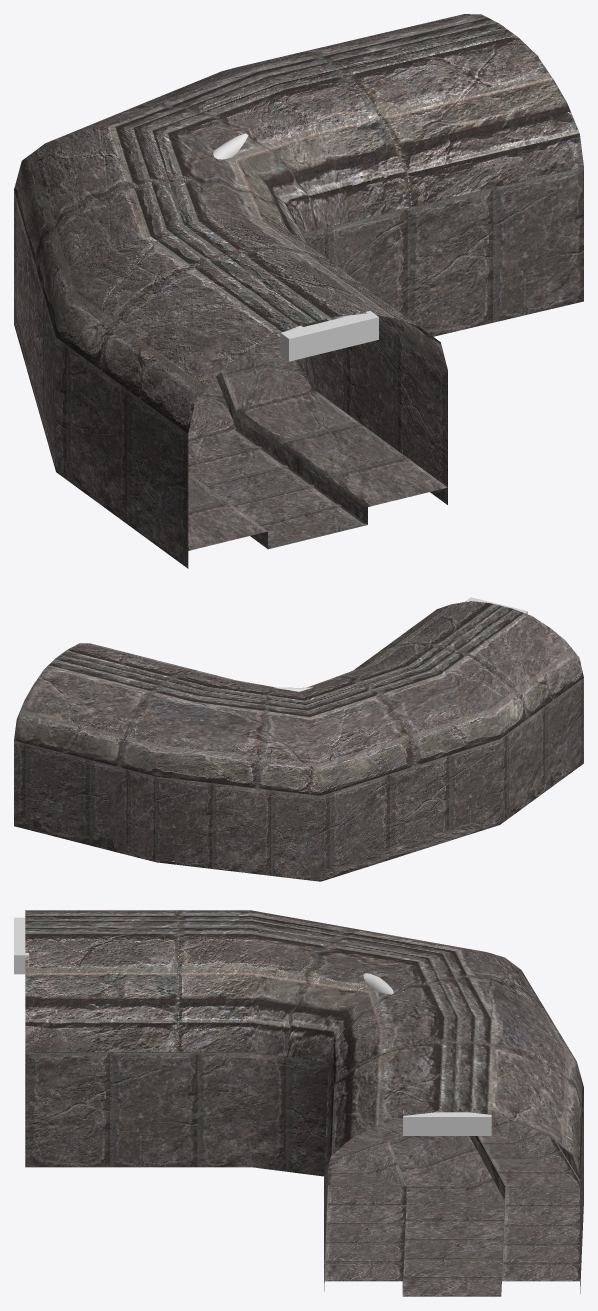
The model's file is 오른쪽 길.fbx.
3 renders of one model, top to bottom at view 1: azimuth 30°, elevation 25°; view 2: azimuth 150°, elevation 25°; view 3: azimuth 270°, elevation 25°, orthographic. The views are drawn at different scales.
Visible parts, largest first — view 1: 하수구 오른쪽길, 하수도 오른쪽 바닥, Box003; view 2: 하수구 오른쪽길, 하수도 오른쪽 바닥; view 3: 하수구 오른쪽길, 하수도 오른쪽 바닥, Box004, Box003.
Part boxes in pixels (x1=…): 하수구 오른쪽길: x1=14, y1=14, x2=583, y2=567; 하수도 오른쪽 바닥: x1=14, y1=307, x2=447, y2=568; Box003: x1=280, y1=311, x2=378, y2=361; 하수구 오른쪽길: x1=14, y1=601, x2=583, y2=881; 하수도 오른쪽 바닥: x1=14, y1=752, x2=583, y2=881; 하수구 오른쪽길: x1=25, y1=910, x2=583, y2=1278; 하수도 오른쪽 바닥: x1=25, y1=1115, x2=582, y2=1296; Box004: x1=403, y1=1110, x2=491, y2=1135; Box003: x1=14, y1=917, x2=28, y2=974.
Size of the model in its own units: 306 by 110 by 309.
